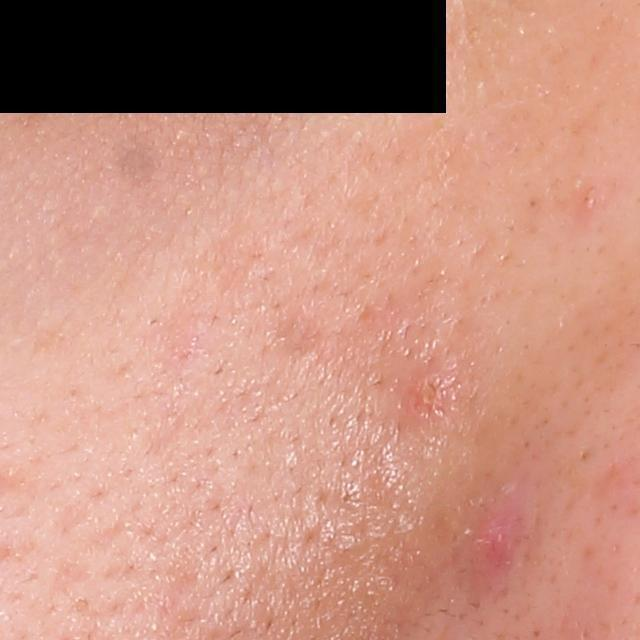papule: (398, 358, 470, 429), (467, 502, 514, 573)
